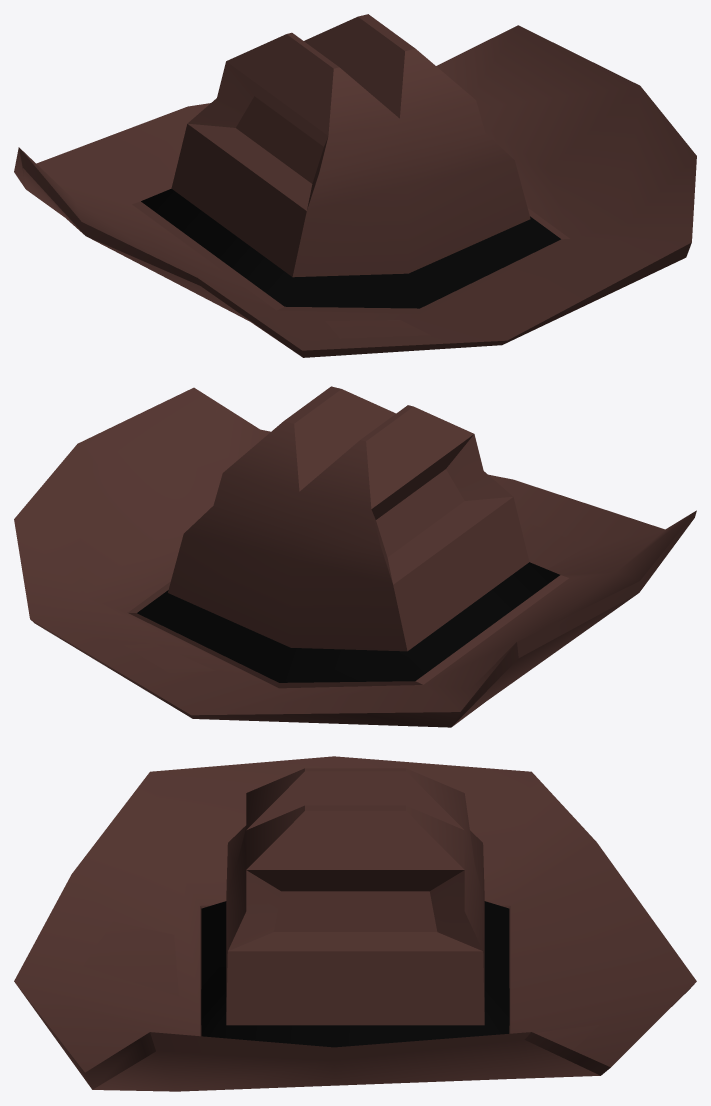
The model's file is cowboyhat.fbx.
3 renders of one model, top to bottom at view 1: azimuth 30°, elevation 25°; view 2: azimuth 150°, elevation 25°; view 3: azimuth 270°, elevation 25°, orthographic. The views are drawn at different scales.
Parts seen in each view (by area): view 1: pCube23; view 2: pCube23; view 3: pCube23.
Boxes of the visible parts, left/top/right/bottom form: pCube23: left=14, top=14, right=696, bottom=357; pCube23: left=14, top=386, right=696, bottom=727; pCube23: left=14, top=756, right=696, bottom=1091.
Bounding box in the file's own units: 37.51 × 14.37 × 37.2.
